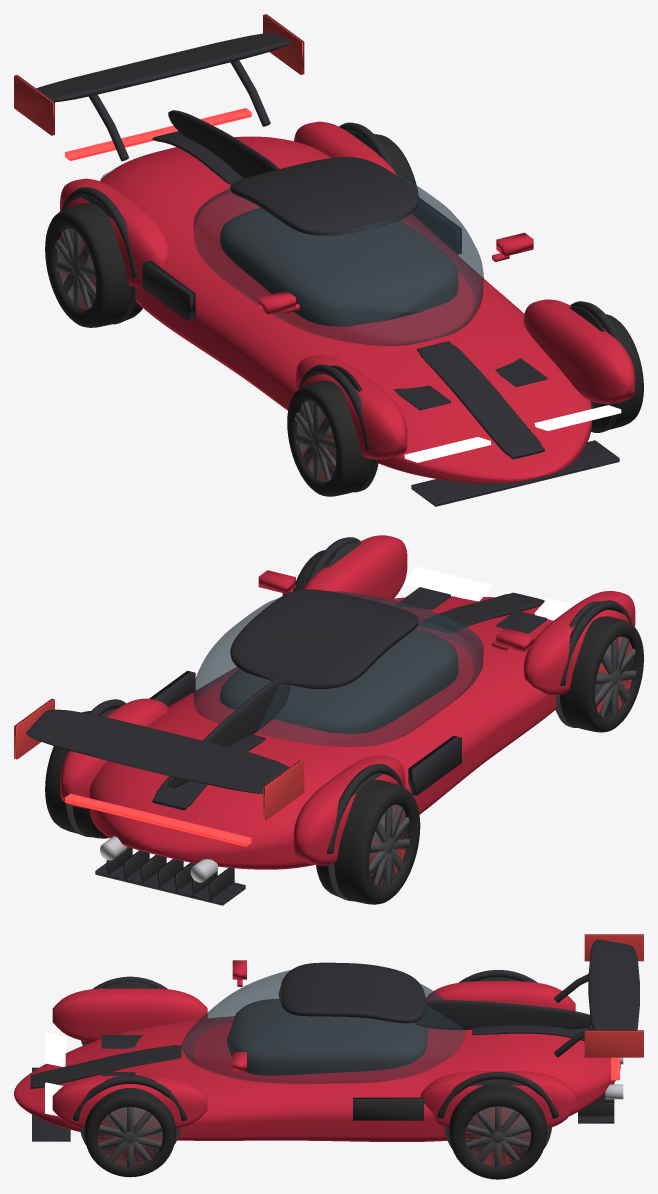
File: Saqr_X1.glb
The picture shows the model from 3 angles, top to bottom: view 1: azimuth 30°, elevation 25°; view 2: azimuth 150°, elevation 25°; view 3: azimuth 270°, elevation 25°; orthographic projection. The views are drawn at different scales.
Visible parts, largest first — view 1: Body_Shell, Canopy_Glass, Cockpit_Interior, Roof_Carbon, Fender_FL, Wheel_RR_Tire, Rear_Wing, Stripe_Hood, Wheel_FR_Tire, Fender_FR, Fender_RR, Side_Intakes (+16 smaller); view 2: Body_Shell, Canopy_Glass, Roof_Carbon, Cockpit_Interior, Rear_Wing, Wheel_RR_Tire, Wheel_FR_Tire, Fender_FL, Fender_RR, Fender_FR, Rear_Diffuser, Dorsal_Fin (+16 smaller); view 3: Body_Shell, Canopy_Glass, Cockpit_Interior, Roof_Carbon, Fender_FR, Wheel_RL_Tire, Rear_Wing, Dorsal_Fin, Fender_FL, Wheel_FL_Tire, Fender_RL, Wheel_RL_Rim (+19 smaller).
Part boxes in pixels (box(x1,y1,x2,y2)): Body_Shell: box(100, 136, 591, 483); Canopy_Glass: box(193, 174, 483, 345); Cockpit_Interior: box(219, 208, 458, 326); Roof_Carbon: box(230, 157, 418, 236); Fender_FL: box(523, 299, 635, 403); Wheel_RR_Tire: box(45, 203, 142, 327); Rear_Wing: box(36, 33, 291, 102); Stripe_Hood: box(416, 341, 544, 459); Wheel_FR_Tire: box(287, 380, 378, 496); Fender_FR: box(295, 355, 407, 459); Fender_RR: box(60, 178, 169, 287); Side_Intakes: box(142, 197, 461, 320); Body_Shell: box(89, 596, 556, 869); Canopy_Glass: box(193, 591, 483, 746); Roof_Carbon: box(230, 589, 418, 688); Cockpit_Interior: box(219, 629, 458, 734); Rear_Wing: box(26, 709, 289, 793); Wheel_RR_Tire: box(316, 779, 420, 904); Wheel_FR_Tire: box(555, 616, 643, 732); Fender_FL: box(303, 535, 407, 601); Fender_RR: box(293, 755, 405, 865); Fender_FR: box(523, 591, 635, 695); Rear_Diffuser: box(95, 847, 245, 905); Dorsal_Fin: box(168, 678, 290, 787); Body_Shell: box(14, 999, 620, 1141); Canopy_Glass: box(181, 970, 465, 1083); Cockpit_Interior: box(227, 998, 428, 1075); Roof_Carbon: box(278, 962, 426, 1023); Fender_FR: box(52, 988, 207, 1042); Wheel_RL_Tire: box(449, 1083, 546, 1179); Rear_Wing: box(588, 939, 639, 1030); Dorsal_Fin: box(413, 1000, 591, 1029); Fender_FL: box(52, 1075, 207, 1128); Wheel_FL_Tire: box(84, 1087, 175, 1177); Fender_RL: box(420, 1071, 575, 1127); Wheel_RL_Rim: box(465, 1106, 530, 1166).
Size of the model in its own units: 2.26 by 1.18 by 4.88.
